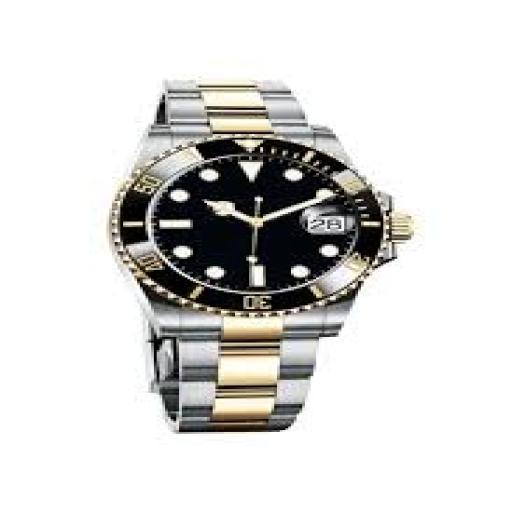KolSaati: (76, 52, 432, 459)
